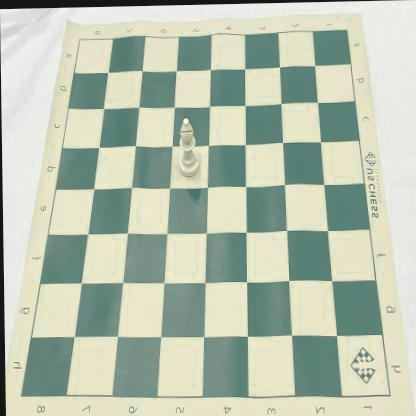white-bishop: (176, 116, 200, 178)
